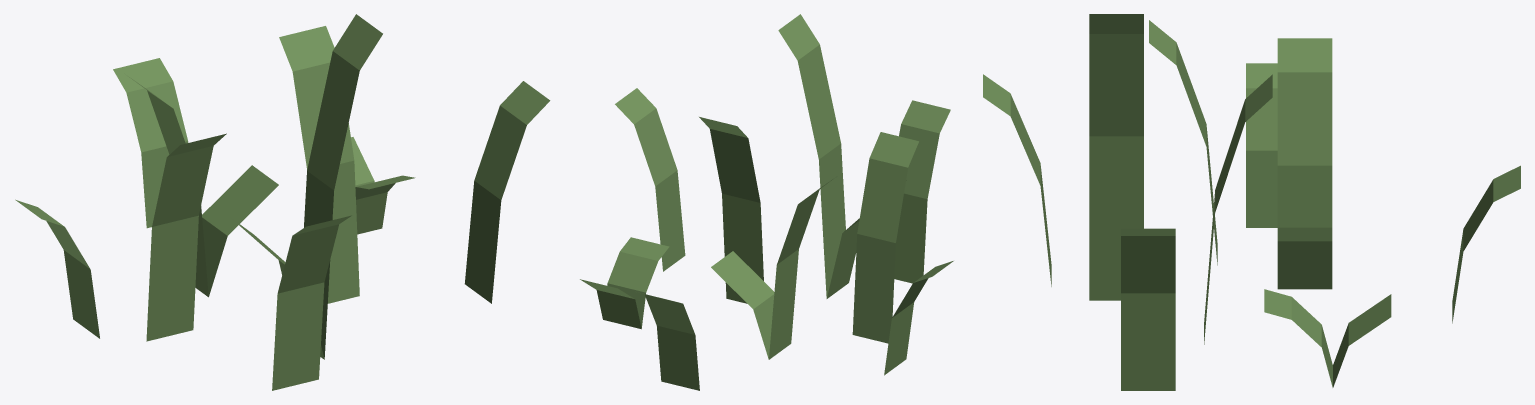
The model's file is grass.glb.
3 views of the same model, side by side, from view 1: azimuth 30°, elevation 25°; view 2: azimuth 150°, elevation 25°; view 3: azimuth 270°, elevation 25° (orthographic). The views are drawn at different scales.
Visible parts, largest first — view 1: grass; view 2: grass; view 3: grass.
Part boxes in pixels (<box>): grass: <box>15,14,550,390</box>; grass: <box>580,14,953,390</box>; grass: <box>983,14,1520,390</box>.
Size of the model in its own units: 0.5251 by 0.35 by 0.5404.
